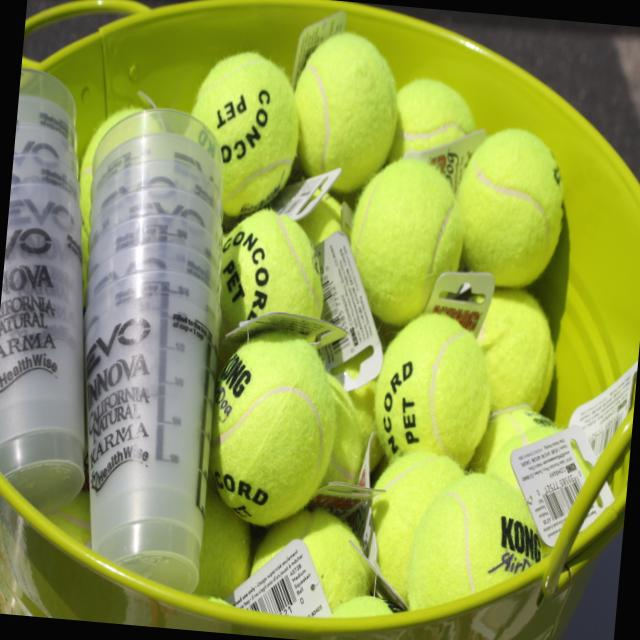Tennis Ball: (41, 10, 578, 629)
